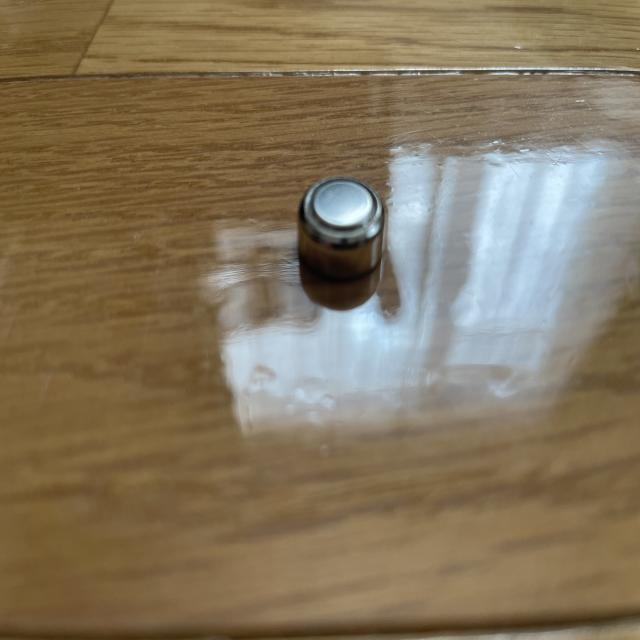COIN: (296, 177, 387, 280)
